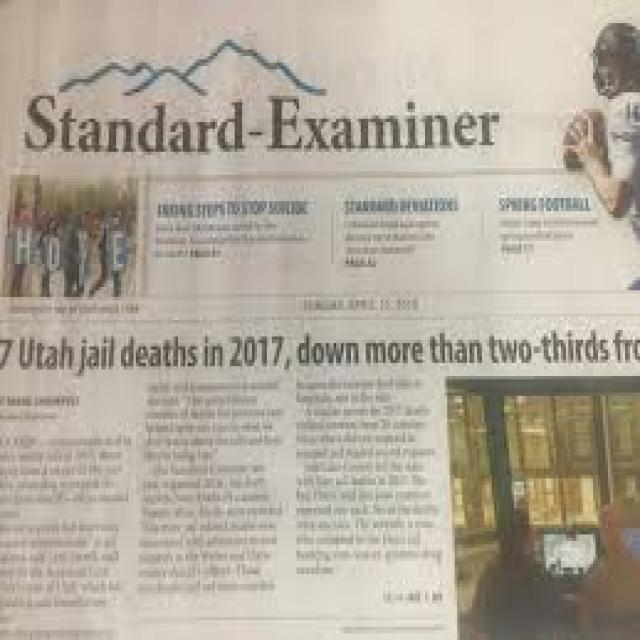paper: (5, 62, 640, 640)
